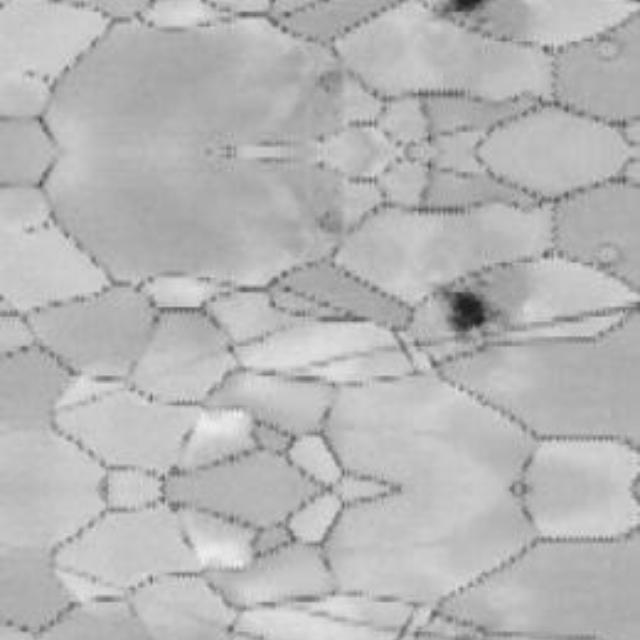good_void: (443, 284, 491, 336), (443, 0, 488, 18)
